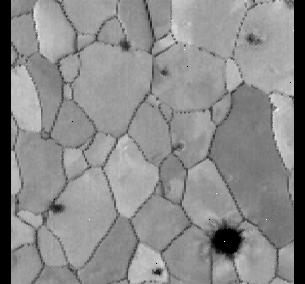good_void: (206, 222, 248, 257), (116, 37, 136, 62), (166, 140, 189, 155), (243, 31, 262, 49), (48, 200, 69, 216), (150, 265, 164, 277), (158, 64, 169, 79), (154, 94, 161, 101)
